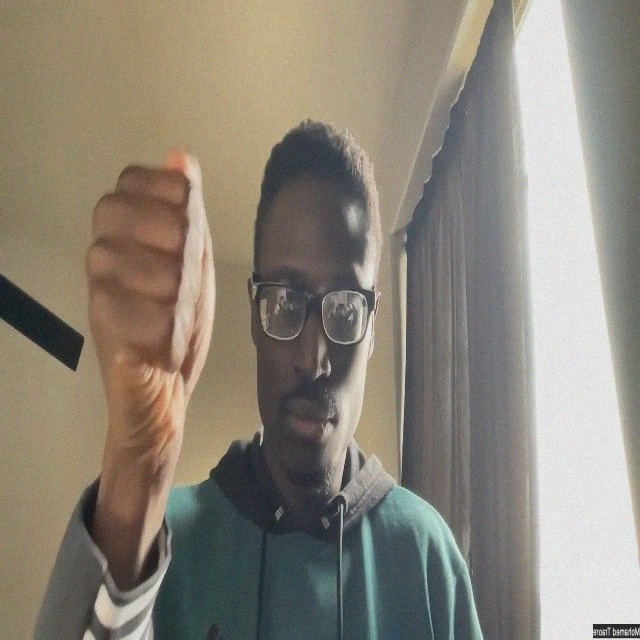Rock: (87, 145, 218, 459)
